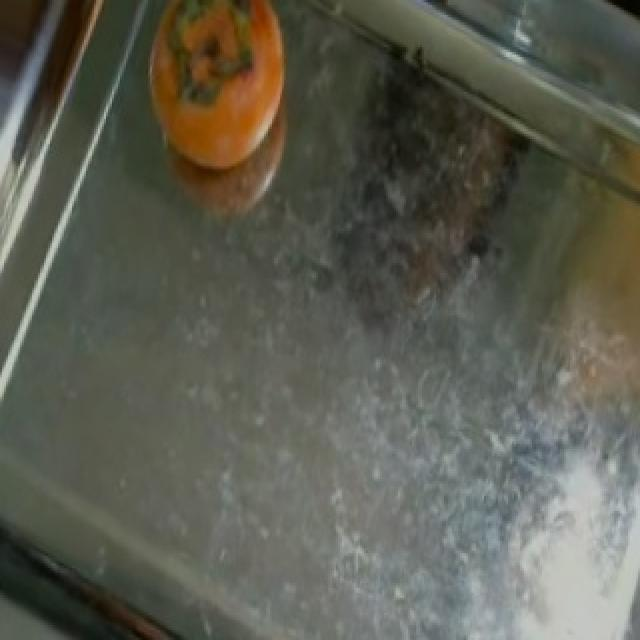Fruit: (122, 2, 316, 191)
